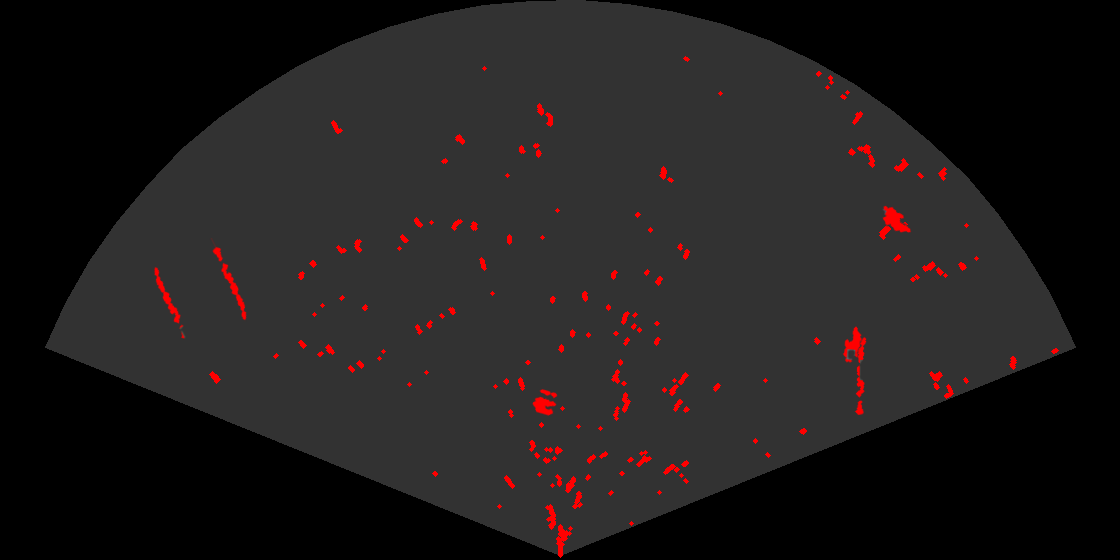AUV: (881, 204, 913, 234), (841, 325, 864, 364)
ball: (531, 388, 559, 417)
chain: (209, 238, 248, 322), (153, 265, 186, 340), (853, 335, 868, 415)
